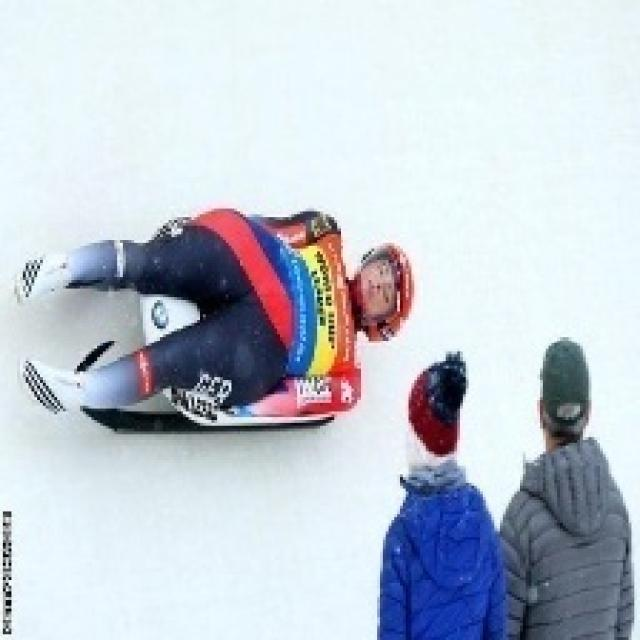luge: (12, 193, 425, 441)
